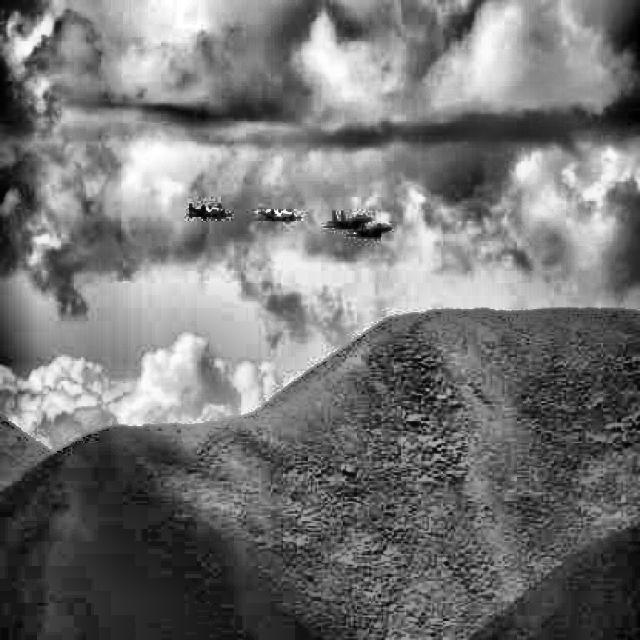A10: (185, 202, 233, 221), (255, 205, 302, 224)
F15: (326, 210, 372, 230), (346, 222, 392, 240)
